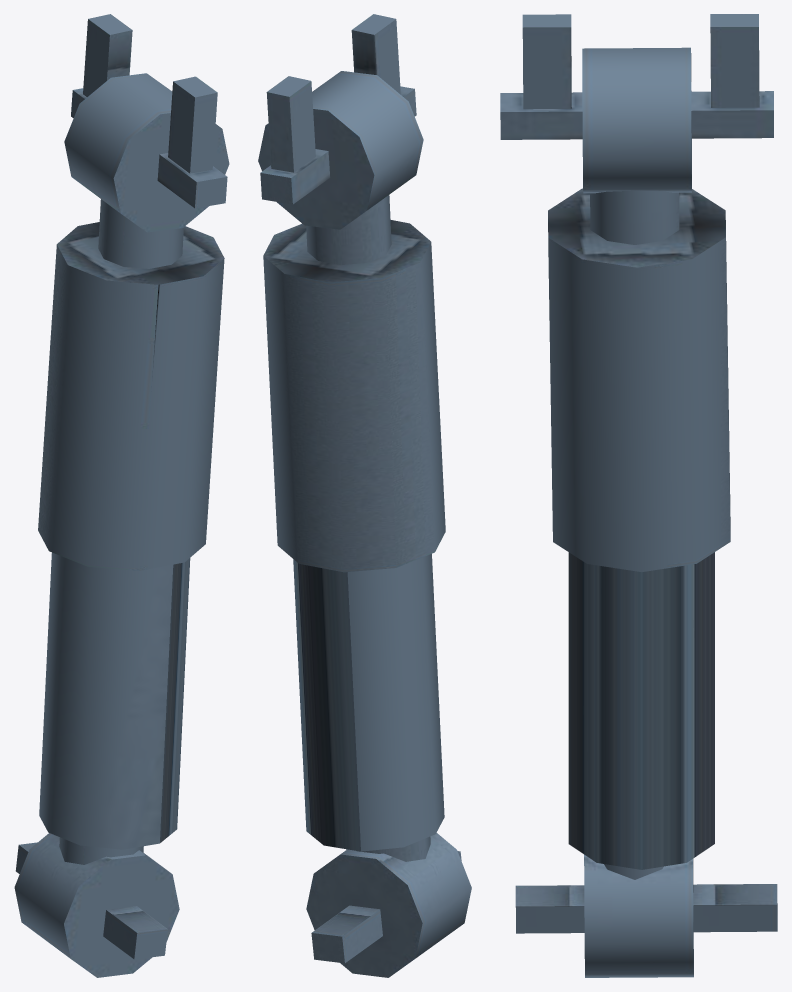
Rendered from jianyaqi004.FBX.
The picture shows the model from 3 angles, left to right: view 1: azimuth 30°, elevation 25°; view 2: azimuth 150°, elevation 25°; view 3: azimuth 270°, elevation 25°; orthographic projection. The views are drawn at different scales.
Visible parts, largest first — view 1: Object093; view 2: Object093; view 3: Object093.
Part boxes in pixels (<box>): Object093: <box>14,14,229,977</box>; Object093: <box>258,14,471,977</box>; Object093: <box>500,14,777,977</box>.
Size of the model in its own units: 0.0813 by 0.3977 by 0.1018.
